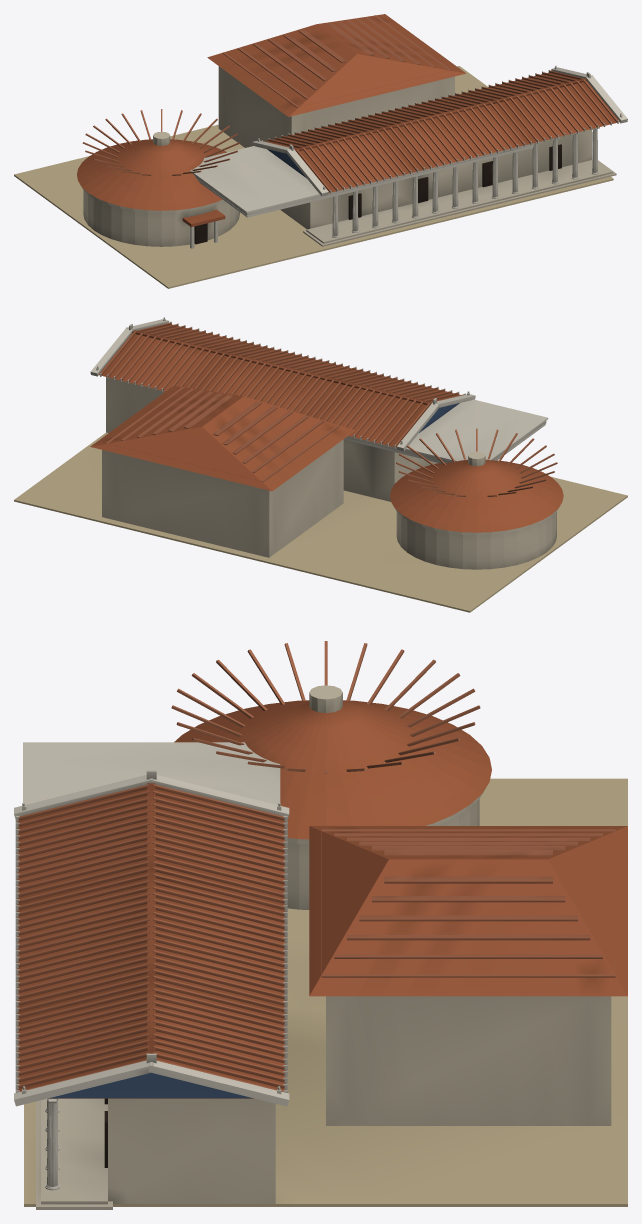
Rendered from bouleuterion.glb.
3 renders of one model, top to bottom at view 1: azimuth 30°, elevation 25°; view 2: azimuth 150°, elevation 25°; view 3: azimuth 270°, elevation 25°, orthographic. The views are drawn at different scales.
Visible parts, largest first — view 1: p2_roofs, p1_buildings, p0_ground; view 2: p2_roofs, p1_buildings, p0_ground; view 3: p2_roofs, p1_buildings, p0_ground.
Boxes of the visible parts, x1=… form: p2_roofs: x1=190, y1=14, x2=627, y2=217; p1_buildings: x1=77, y1=66, x2=616, y2=248; p0_ground: x1=14, y1=66, x2=613, y2=288; p2_roofs: x1=90, y1=317, x2=548, y2=491; p1_buildings: x1=102, y1=377, x2=563, y2=569; p0_ground: x1=14, y1=432, x2=627, y2=612; p2_roofs: x1=14, y1=742, x2=627, y2=1106; p1_buildings: x1=36, y1=641, x2=611, y2=1209; p0_ground: x1=24, y1=778, x2=627, y2=1206.
Size of the model in its own units: 62 by 12.6 by 36.6.
